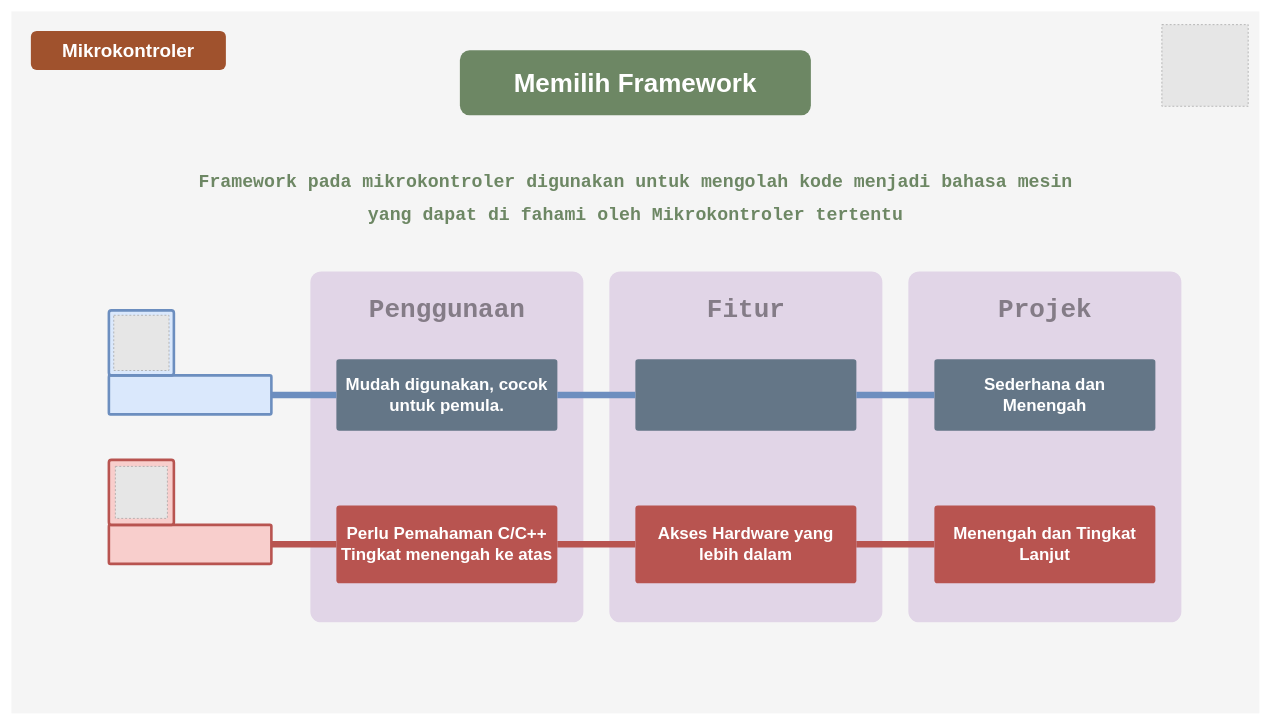
The diagram is 1270 pixels wide and 724 high, and some of its shapes have lost their labels. Grey dashed boxes stand in for pictures. The shapes that lost their labels are listed below. From the top down, each one's centre as x and y in pixels, then its label:
At point 189,394: "Arduino".
At point 745,394: "Integrasi Library siap yang pakai".
At point 189,544: "ESP-IDF".
